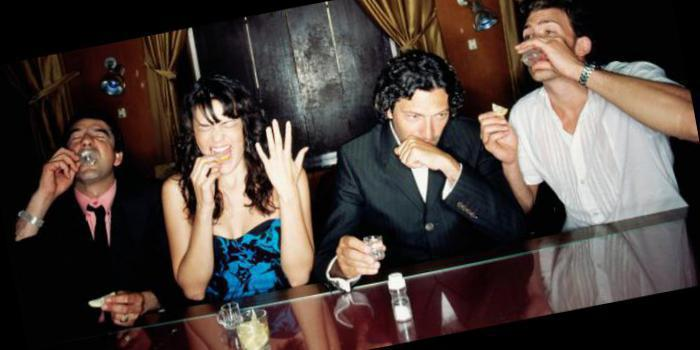Drunk: (521, 8, 577, 80), (190, 106, 248, 171), (397, 88, 448, 149), (67, 125, 114, 180)
